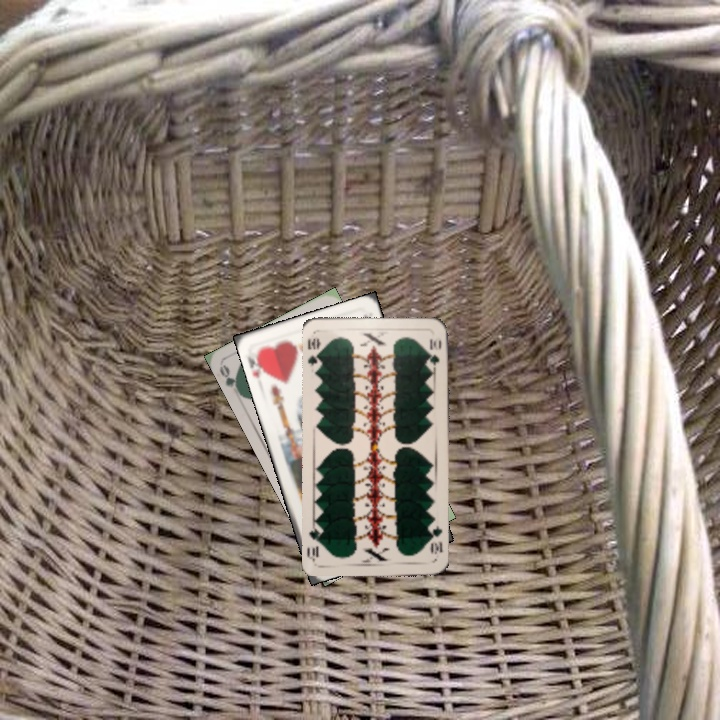G10: (305, 334, 324, 372), (425, 521, 445, 557)
GO: (215, 362, 245, 398)
HK: (243, 346, 270, 381)
